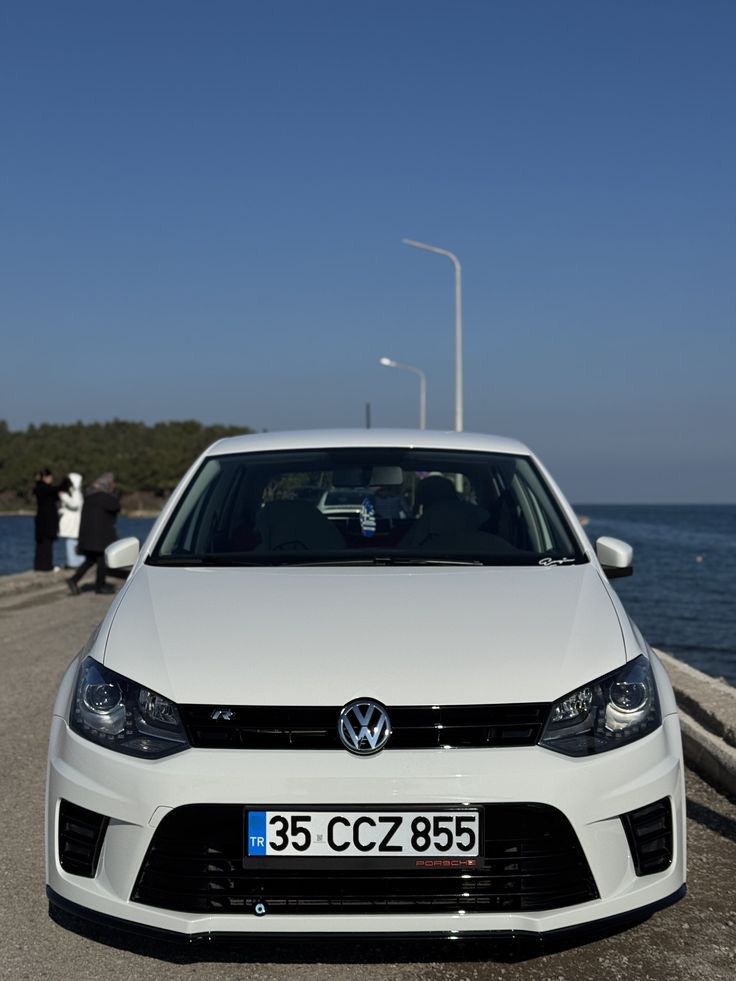plate: (242, 805, 479, 861)
